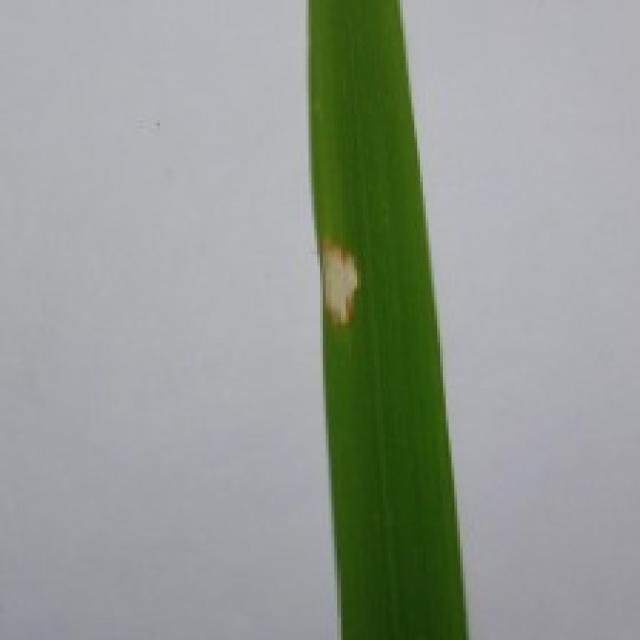Bacterial_Blight: (298, 226, 366, 333)
